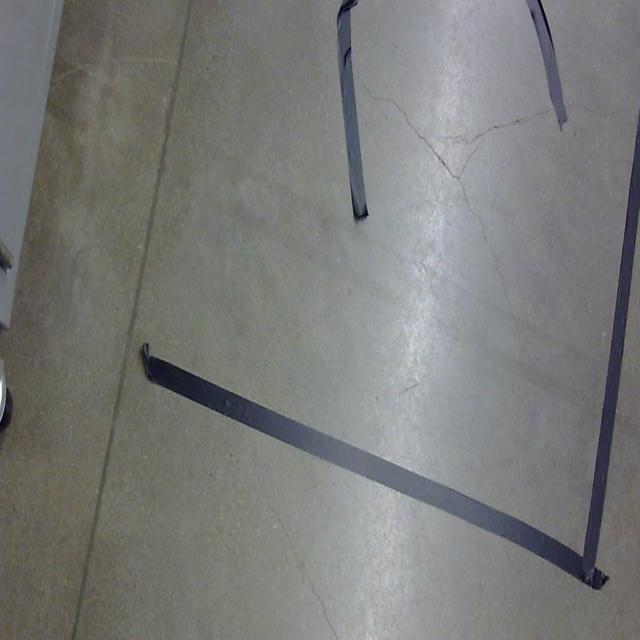tape: (137, 335, 613, 603), (578, 99, 640, 594), (331, 0, 405, 234), (523, 0, 575, 138)
